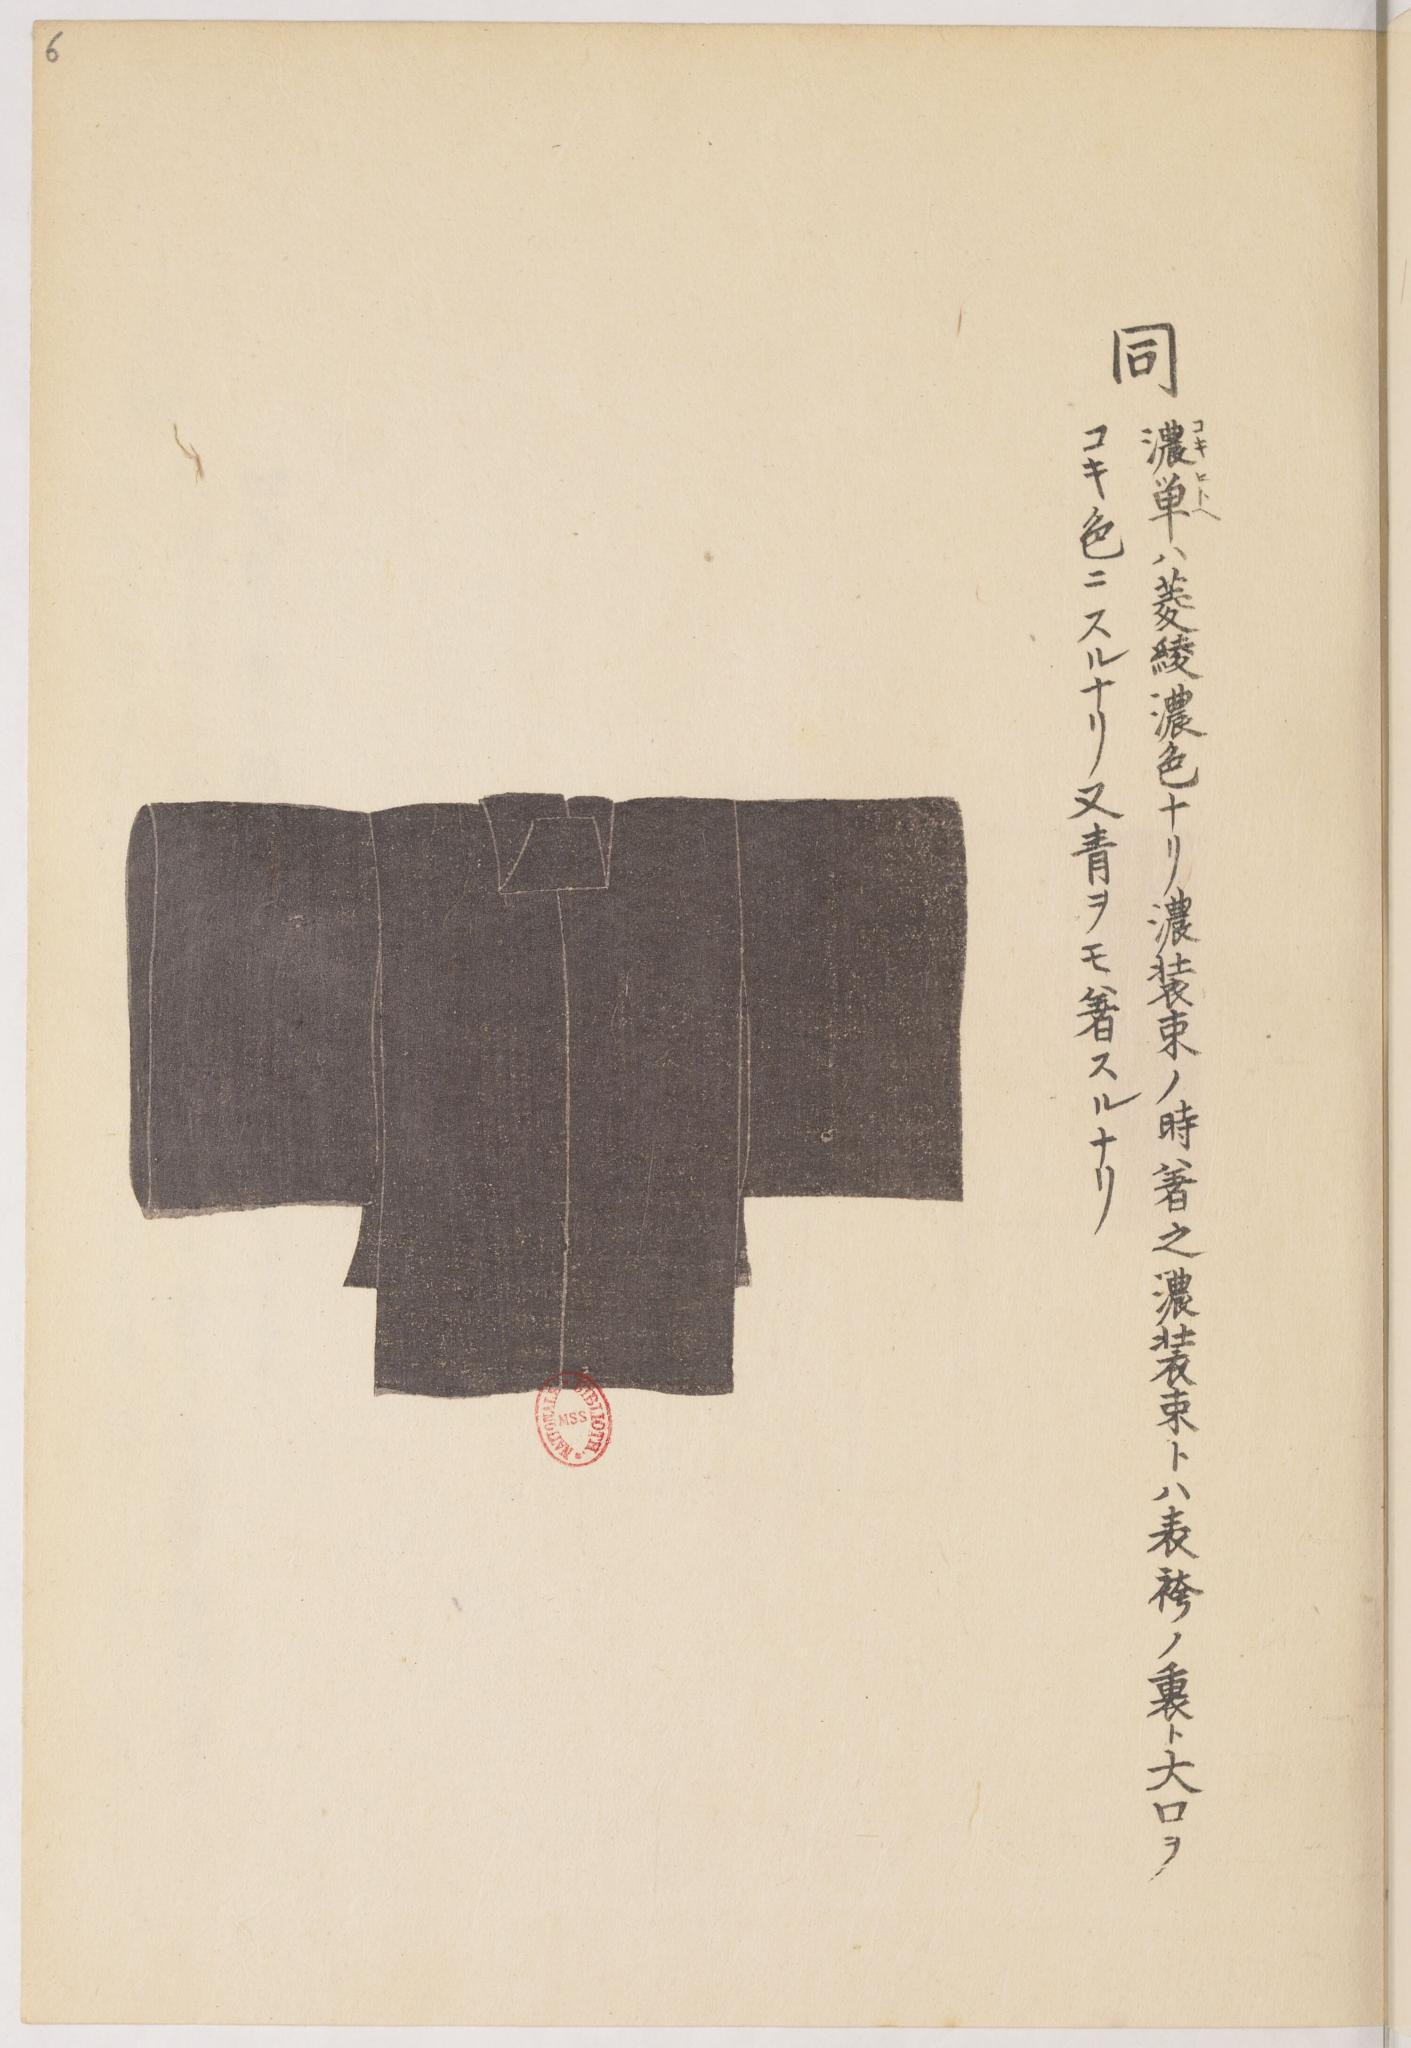MainZone-Character: (1143, 468, 1220, 542), (1139, 409, 1217, 470)
MainZone-Ruby: (1189, 468, 1220, 520), (1190, 414, 1215, 459)
